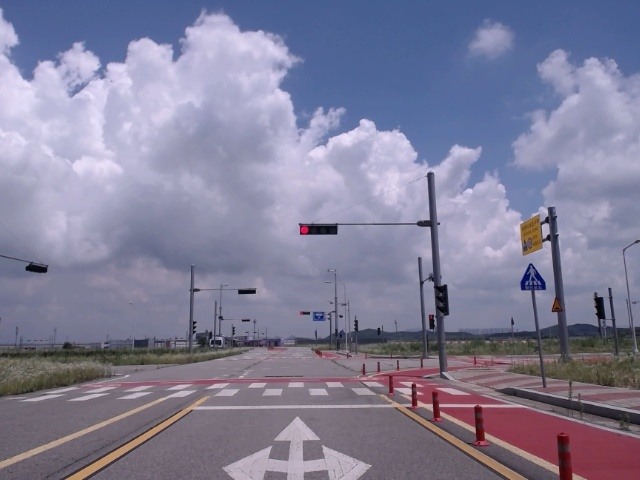red_4: (300, 225, 338, 235)
